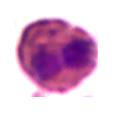eosi: (16, 16, 101, 96)
